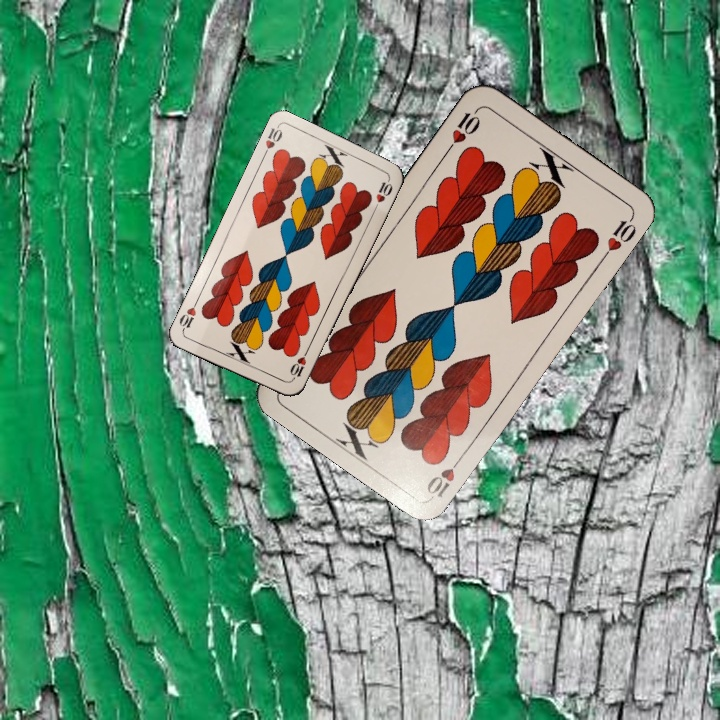H10: (422, 449, 467, 502), (442, 104, 484, 155), (258, 123, 285, 161), (286, 345, 311, 383)
